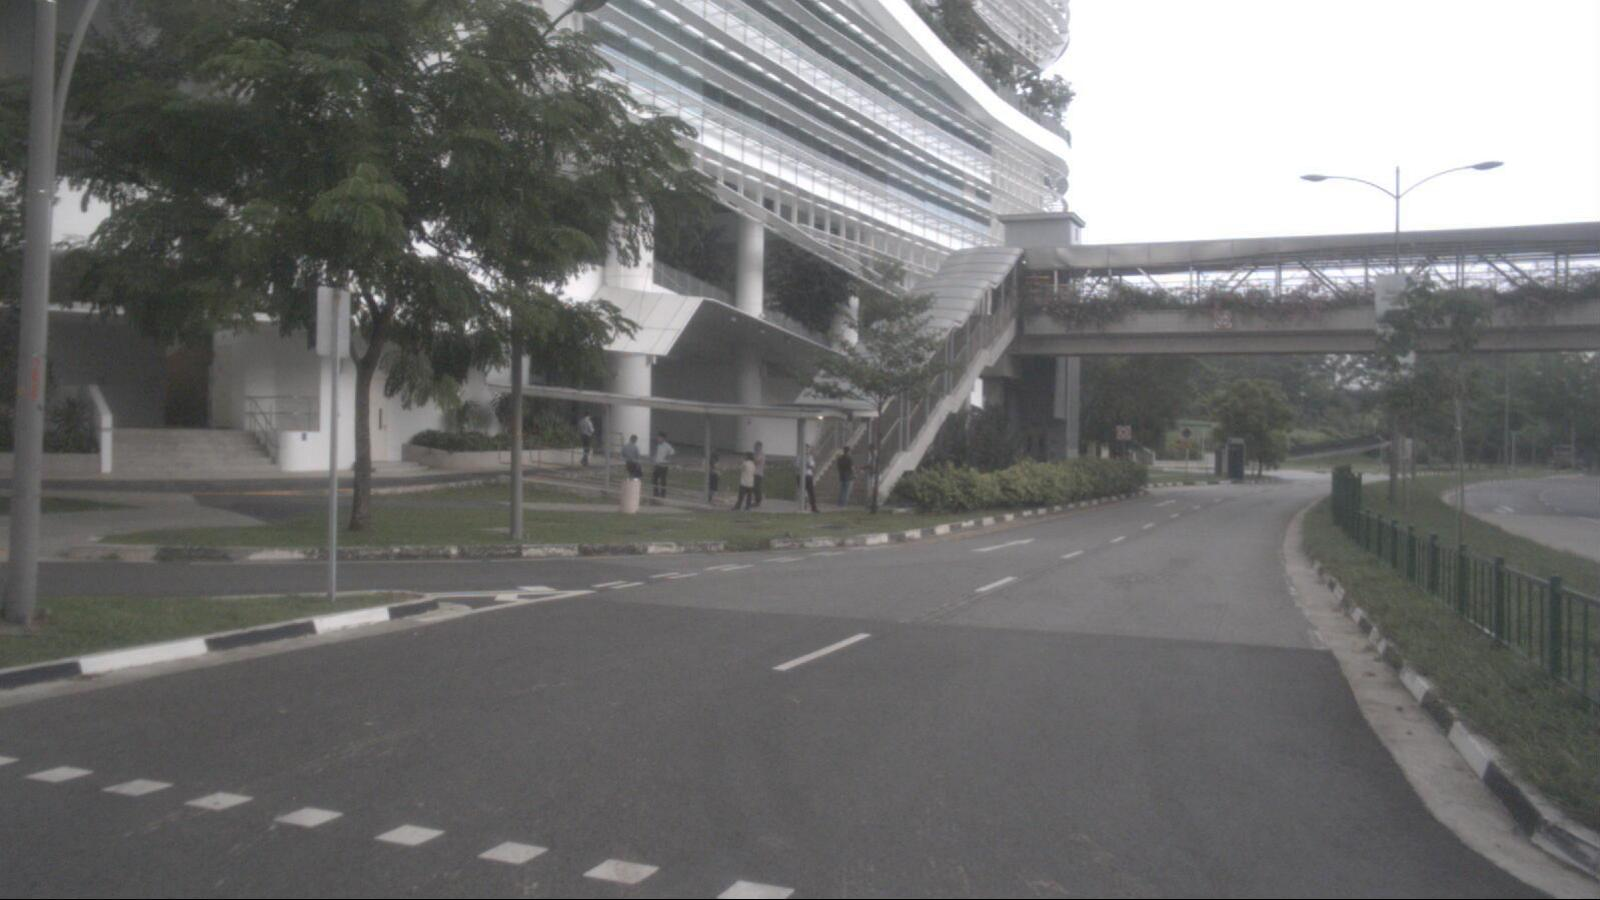human.pedestrian.adult-pedestrian.moving: (577, 412, 595, 467)
human.pedestrian.adult-pedestrian.standing: (794, 443, 821, 513), (652, 432, 676, 500), (732, 451, 758, 510), (622, 435, 643, 494), (837, 445, 857, 507), (862, 444, 881, 506), (748, 441, 766, 506), (702, 447, 721, 504)
